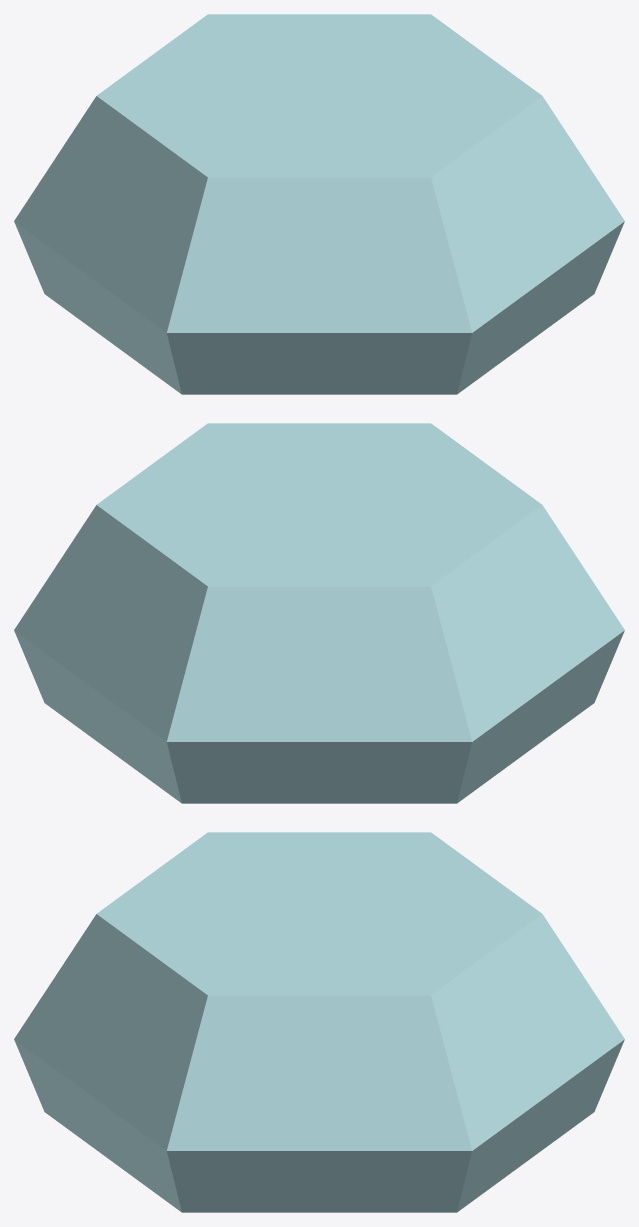
The model's file is stone_smallG.glb.
3 renders of one model, top to bottom at view 1: azimuth 30°, elevation 25°; view 2: azimuth 150°, elevation 25°; view 3: azimuth 270°, elevation 25°, orthographic.
Visible parts, largest first — view 1: stone_smallG; view 2: stone_smallG; view 3: stone_smallG.
Boxes of the visible parts, x1,y1,x2,y2 form: stone_smallG: (14,14,624,394); stone_smallG: (14,423,624,803); stone_smallG: (14,832,624,1212).
Bounding box in the file's own units: 0.5937 × 0.2453 × 0.6855.
